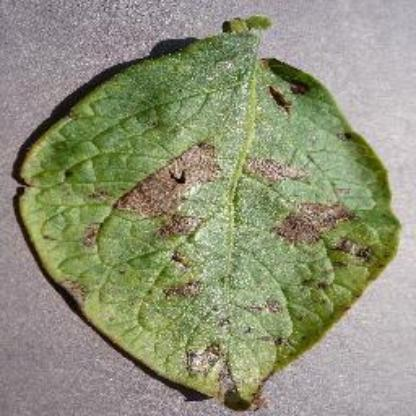Early-Blight: (20, 14, 400, 406)
